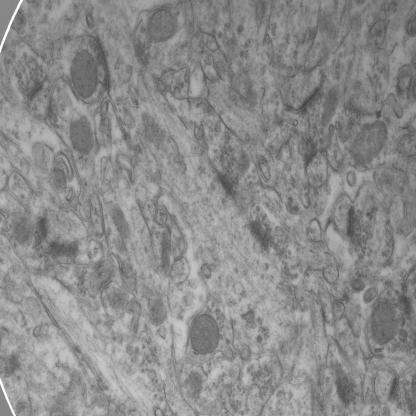mitochondria: (352, 115, 388, 171), (370, 297, 405, 346), (190, 311, 222, 356), (70, 48, 97, 100), (67, 112, 96, 158), (146, 7, 178, 45)
